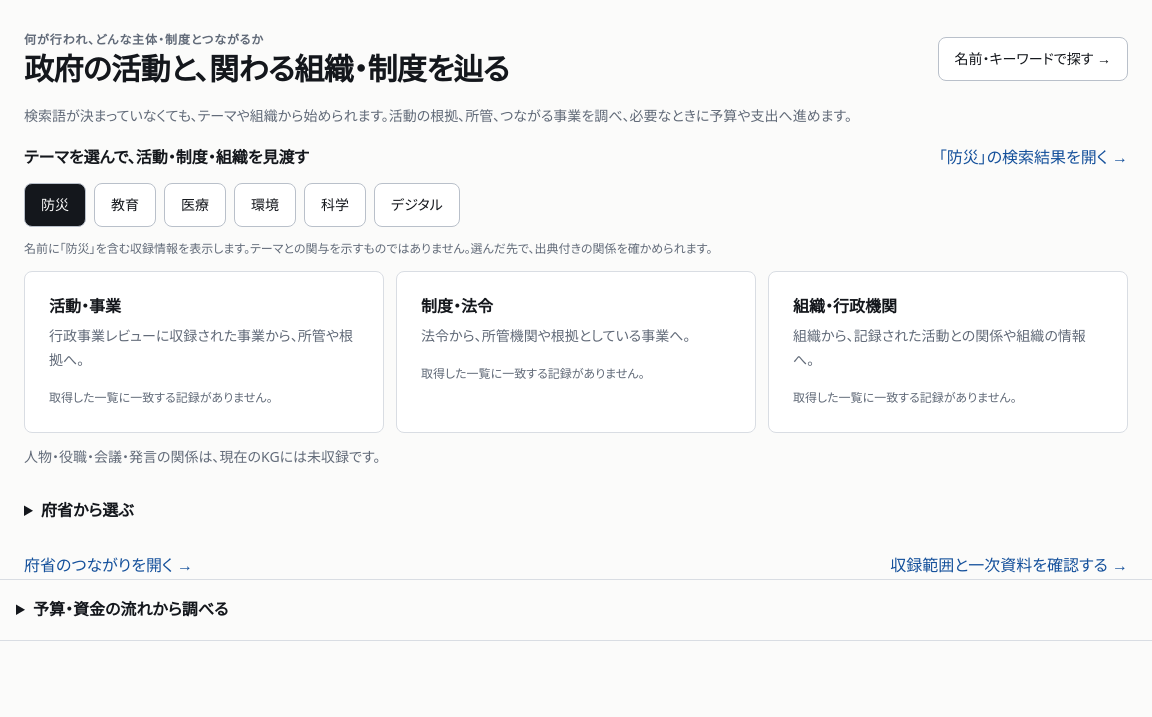
Test: TopPage(トップページ再設計) › 年度の推移: 5年分の帯と、要求と査定の母集団の注記(32.7〜44.0%)を出す
This screenshot has width=1152, height=717.
Step 1. Click the heading "予算・資金の流れから調べる" → (131, 609), box [0,579,1151,641]
(page scrolled)
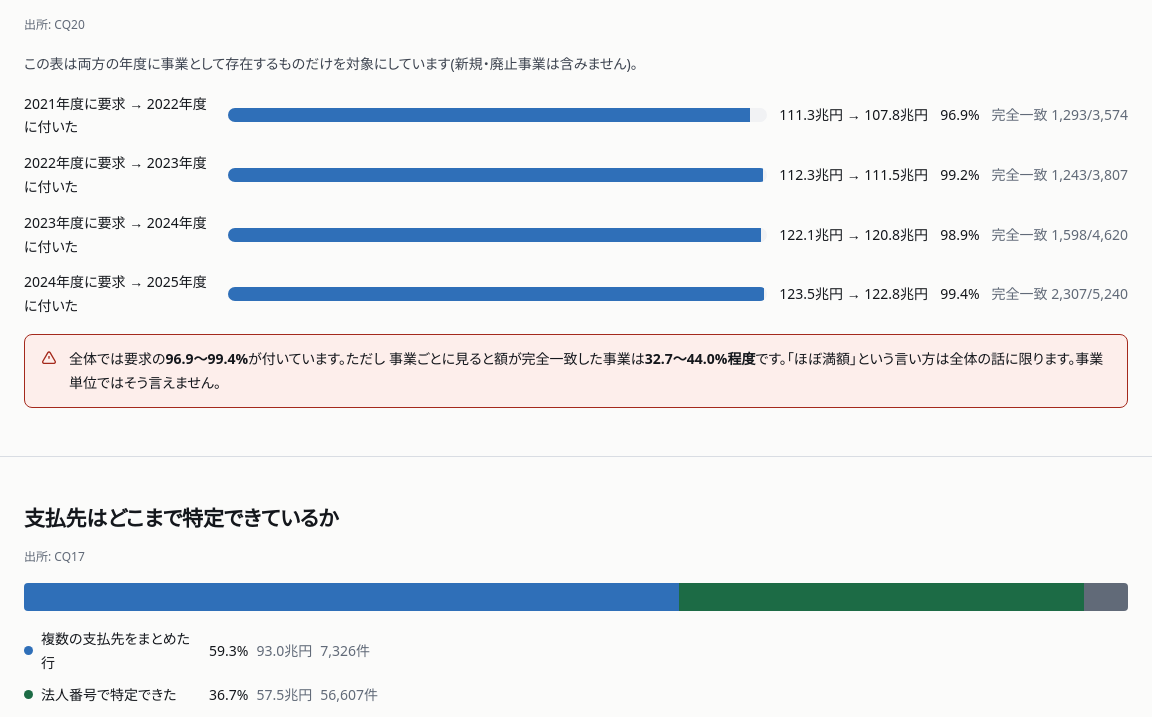
Check: the text "32.7〜44.0%程度" is shown, box [645,349,756,368]
